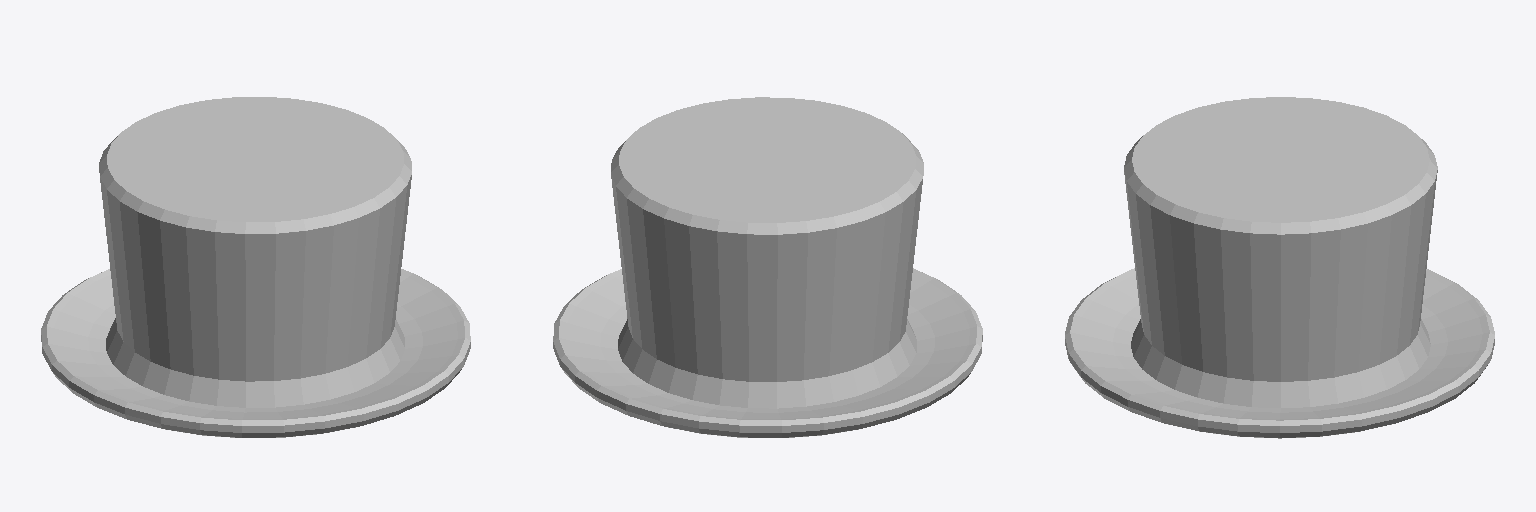
The model's file is tophat.obj.
3 renders of one model, left to right at view 1: azimuth 30°, elevation 25°; view 2: azimuth 150°, elevation 25°; view 3: azimuth 270°, elevation 25°, orthographic.
Visible parts, largest first — view 1: hat_tophat; view 2: hat_tophat; view 3: hat_tophat.
Boxes of the visible parts, <box> form: hat_tophat: <box>41,97,470,437</box>; hat_tophat: <box>553,97,982,437</box>; hat_tophat: <box>1065,97,1494,438</box>.
Bounding box in the file's own units: 4.05 × 1.99 × 4.05.